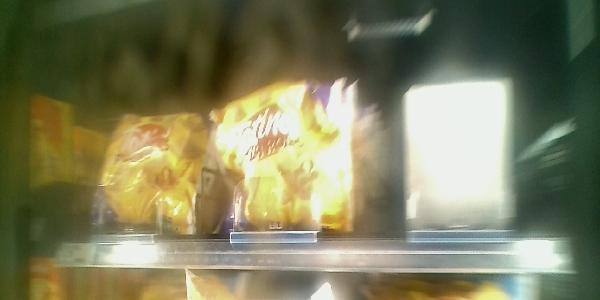icecream: (204, 82, 350, 239), (100, 99, 205, 241)
